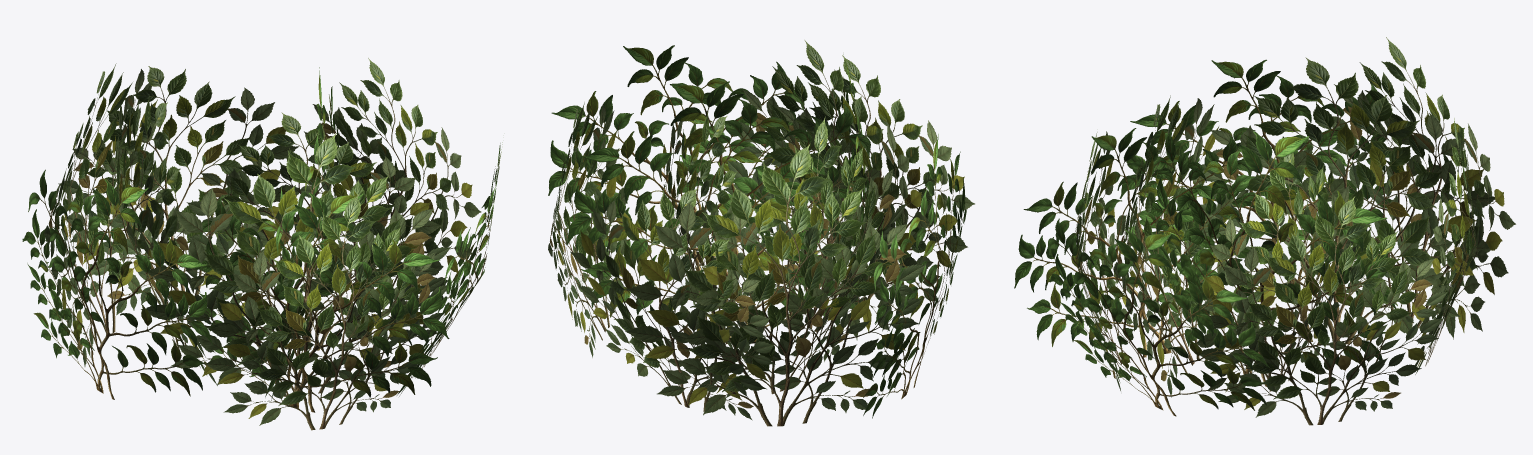
File: HH_Bushes_04.fbx
The picture shows the model from 3 angles, left to right: view 1: azimuth 30°, elevation 25°; view 2: azimuth 150°, elevation 25°; view 3: azimuth 270°, elevation 25°; orthographic projection.
Visible parts, largest first — view 1: HH_Bushes_04; view 2: HH_Bushes_04; view 3: HH_Bushes_04.
Part boxes in pixels (left/top/right/bottom): HH_Bushes_04: left=22, top=58, right=502, bottom=430; HH_Bushes_04: left=548, top=40, right=974, bottom=426; HH_Bushes_04: left=1014, top=37, right=1515, bottom=425.
Size of the model in its own units: 103 by 68.05 by 108.
